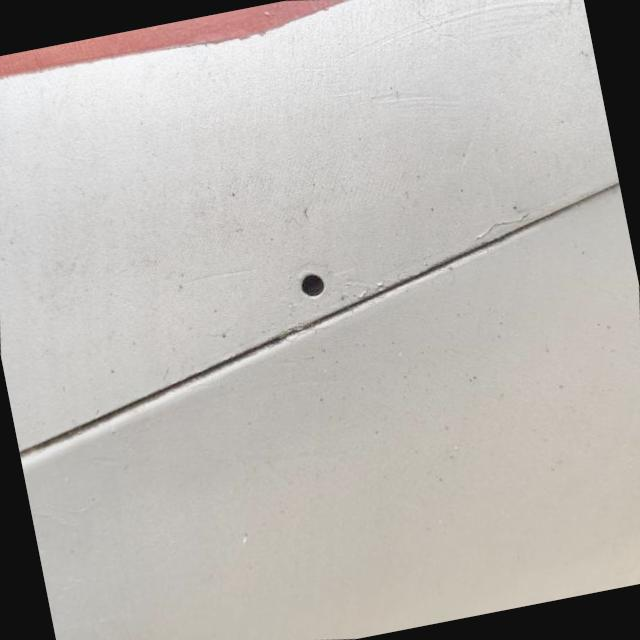Missing Fastener: (282, 258, 338, 314)
